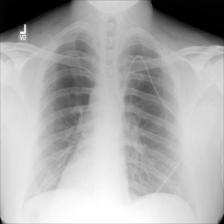normal: (18, 22, 200, 215)
